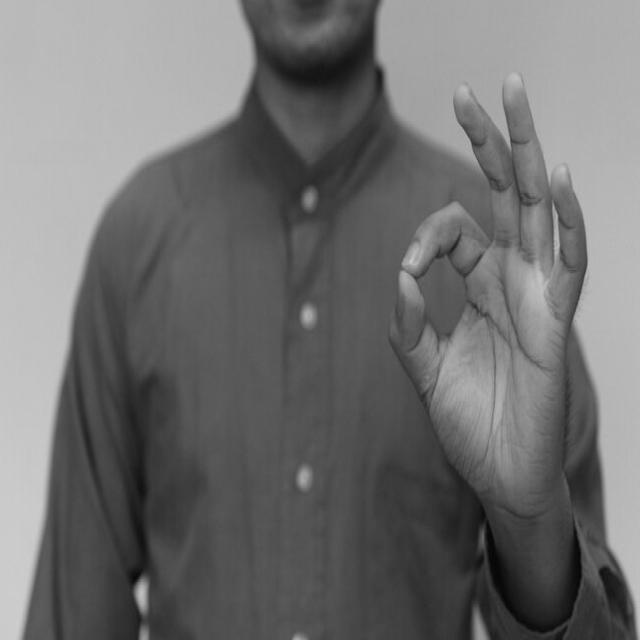perfect: (382, 64, 595, 523)
